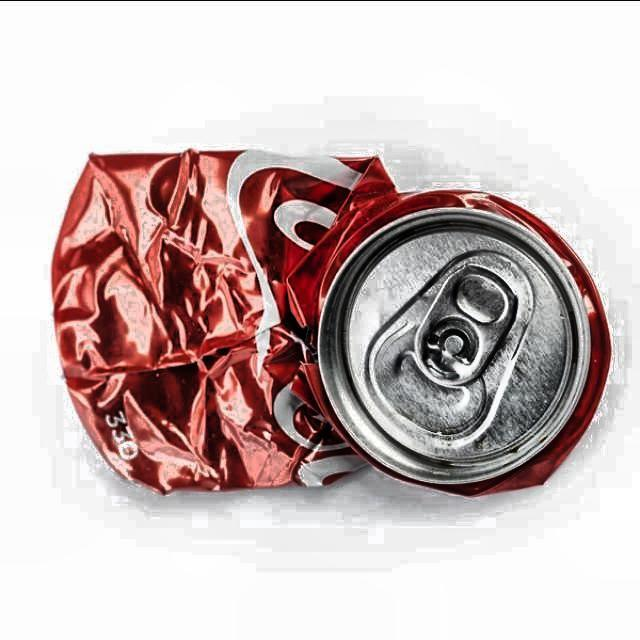metal: (50, 149, 612, 498)
